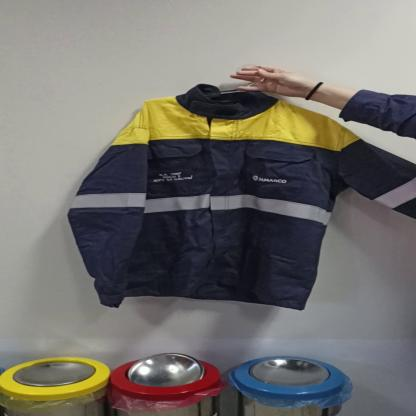C_eletrica: (64, 89, 416, 317)
